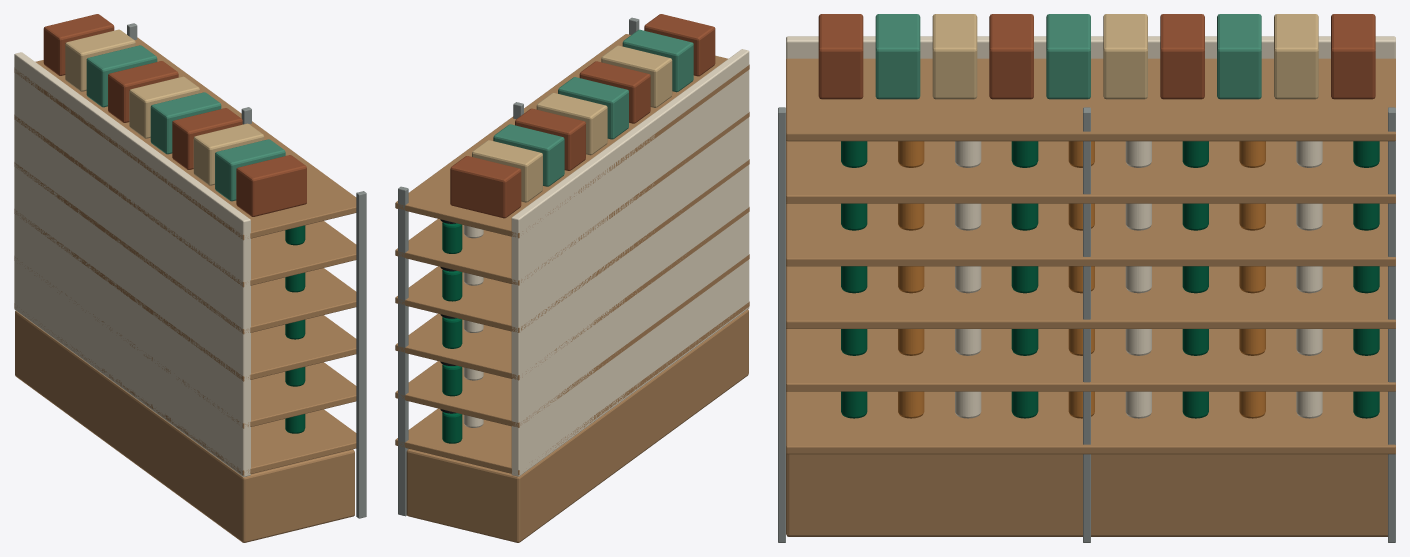
File: best.glb
3 views of the same model, side by side, from view 1: azimuth 30°, elevation 25°; view 2: azimuth 150°, elevation 25°; view 3: azimuth 270°, elevation 25° (orthographic). The views are drawn at different scales.
Parts seen in each view (by area): view 1: starbucksShelves_1, starbucksShelves_0, starbucksShelves_107, starbucksShelves_65, starbucksShelves_44, starbucksShelves_86, starbucksShelves_2, starbucksShelves_23, starbucksShelves_120, starbucksShelves_117, starbucksShelves_113, starbucksShelves_108 (+7 smaller); view 2: starbucksShelves_1, starbucksShelves_0, starbucksShelves_107, starbucksShelves_65, starbucksShelves_23, starbucksShelves_86, starbucksShelves_44, starbucksShelves_2, starbucksShelves_108, starbucksShelves_118, starbucksShelves_115, starbucksShelves_117 (+12 smaller); view 3: starbucksShelves_0, starbucksShelves_107, starbucksShelves_2, starbucksShelves_65, starbucksShelves_23, starbucksShelves_86, starbucksShelves_44, starbucksShelves_115, starbucksShelves_117, starbucksShelves_116, starbucksShelves_1, starbucksShelves_110 (+12 smaller).
Part boxes in pixels (x1=…): starbucksShelves_1: x1=14, y1=52, x2=250, y2=476; starbucksShelves_0: x1=15, y1=311, x2=354, y2=542; starbucksShelves_107: x1=14, y1=37, x2=356, y2=240; starbucksShelves_65: x1=14, y1=162, x2=356, y2=334; starbucksShelves_44: x1=14, y1=209, x2=356, y2=381; starbucksShelves_86: x1=14, y1=114, x2=356, y2=287; starbucksShelves_2: x1=14, y1=303, x2=356, y2=475; starbucksShelves_23: x1=14, y1=256, x2=356, y2=428; starbucksShelves_120: x1=356, y1=191, x2=366, y2=518; starbucksShelves_117: x1=236, y1=155, x2=306, y2=216; starbucksShelves_113: x1=150, y1=92, x2=221, y2=154; starbucksShelves_108: x1=43, y1=14, x2=114, y2=75; starbucksShelves_1: x1=511, y1=49, x2=749, y2=476; starbucksShelves_0: x1=406, y1=309, x2=748, y2=542; starbucksShelves_107: x1=395, y1=34, x2=749, y2=238; starbucksShelves_65: x1=395, y1=159, x2=749, y2=332; starbucksShelves_23: x1=395, y1=254, x2=749, y2=427; starbucksShelves_86: x1=395, y1=112, x2=749, y2=285; starbucksShelves_44: x1=395, y1=207, x2=749, y2=380; starbucksShelves_2: x1=395, y1=301, x2=749, y2=475; starbucksShelves_108: x1=450, y1=156, x2=521, y2=218; starbucksShelves_118: x1=398, y1=186, x2=408, y2=516; starbucksShelves_115: x1=601, y1=45, x2=672, y2=107; starbucksShelves_117: x1=644, y1=14, x2=715, y2=76; starbucksShelves_0: x1=786, y1=453, x2=1387, y2=536; starbucksShelves_107: x1=786, y1=58, x2=1395, y2=141; starbucksShelves_2: x1=786, y1=391, x2=1395, y2=454; starbucksShelves_65: x1=786, y1=203, x2=1395, y2=266; starbucksShelves_23: x1=786, y1=328, x2=1395, y2=391; starbucksShelves_86: x1=786, y1=140, x2=1395, y2=203; starbucksShelves_44: x1=786, y1=266, x2=1395, y2=328; starbucksShelves_115: x1=932, y1=14, x2=977, y2=99; starbucksShelves_117: x1=818, y1=14, x2=863, y2=99; starbucksShelves_116: x1=875, y1=14, x2=920, y2=99; starbucksShelves_1: x1=786, y1=36, x2=1395, y2=58; starbucksShelves_110: x1=1217, y1=14, x2=1261, y2=99.
Size of the model in its own units: 0.93 by 2.53 by 3.04.
